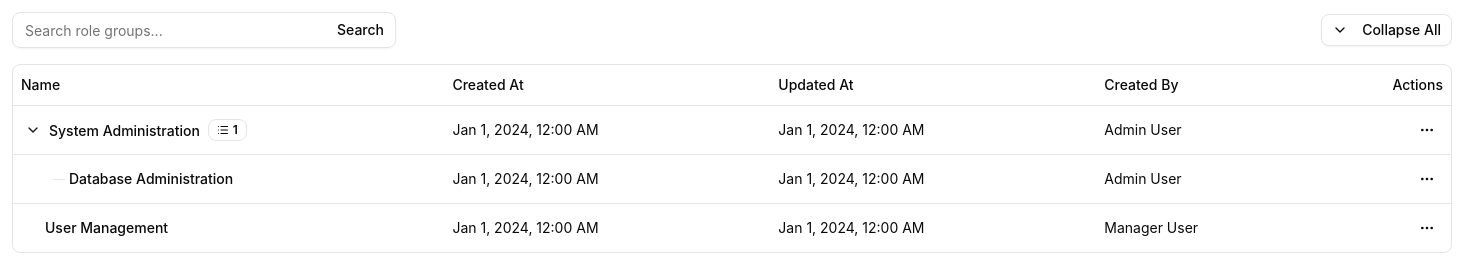
Scenario: RoleGroupList Component › Hierarchical Structure Display › allows expanding and collapsing child groups
Check: the button "Database Administration" is shown, box [69, 168, 233, 188]
Click to collapse
Click the button named "Collapse group": (33, 130) [21, 118, 45, 142]
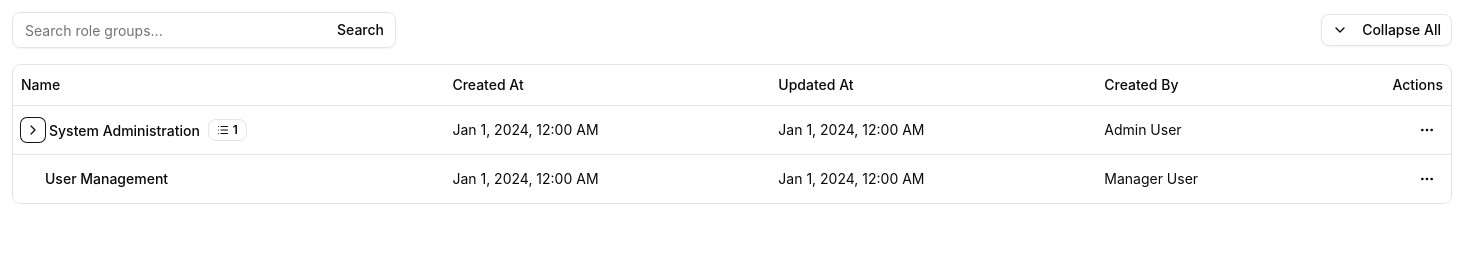
Check: the button named "Collapse group" is collapsed, box [21, 118, 45, 142]
